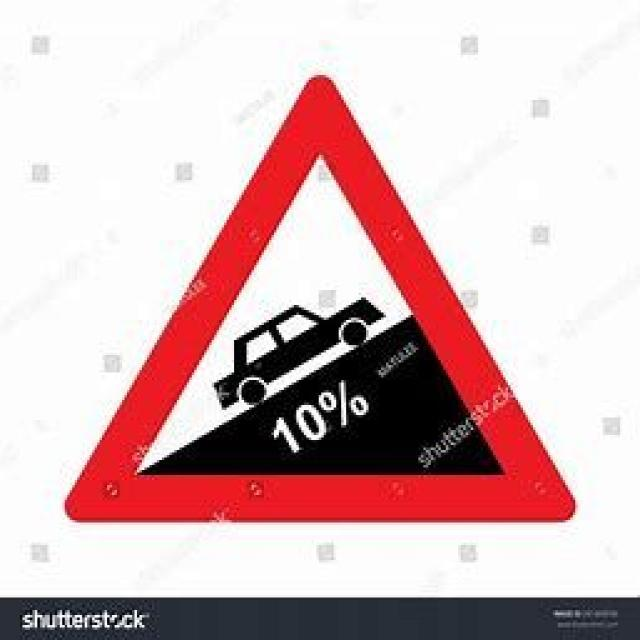steep ascent: (59, 71, 579, 527)
